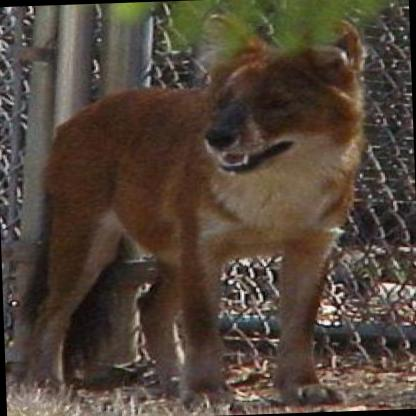dhole: (12, 6, 376, 416)
